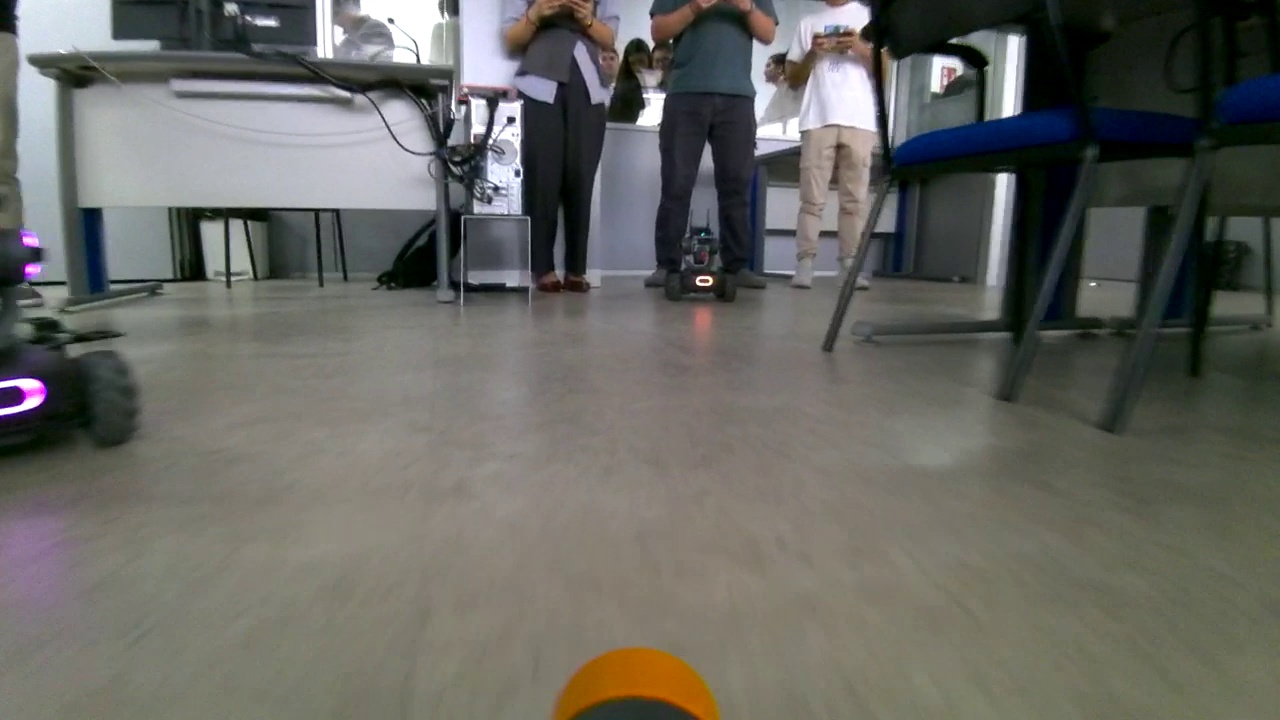robot: (662, 206, 735, 311)
